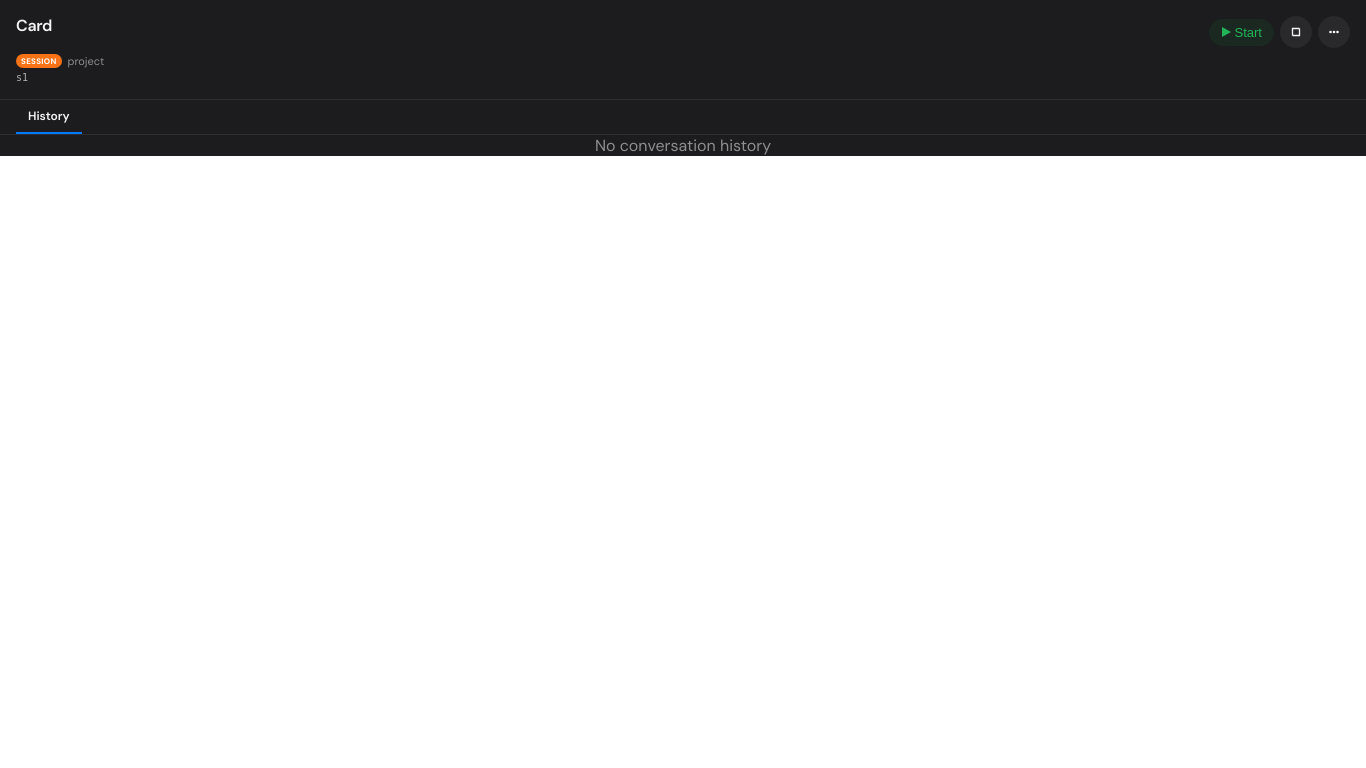
Test case: CardDetailView › Fork confirmation › shows fork dialog from actions menu
This screenshot has width=1366, height=768.
Click the button with test id "actions-menu-trigger": (1334, 32) [1318,16,1350,48]
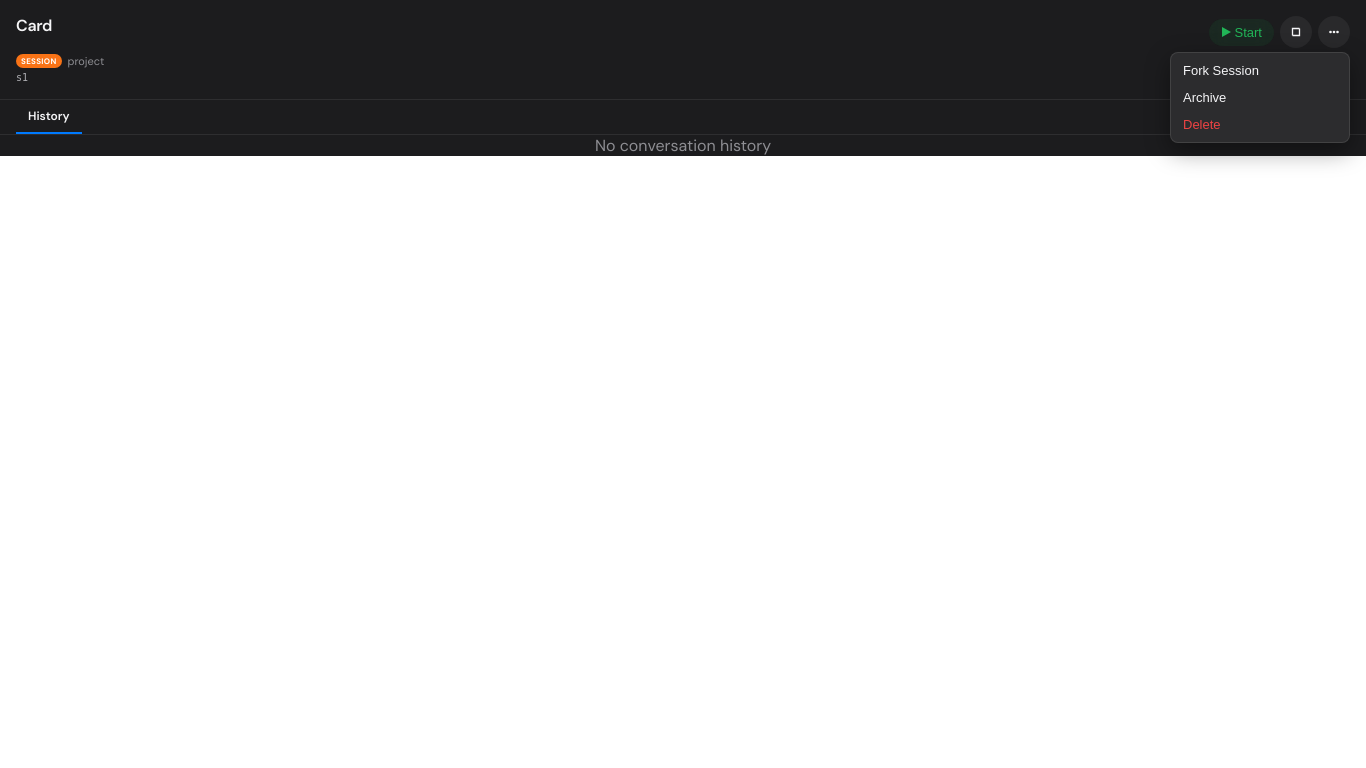
Click the menu item "Fork Session": (1260, 70) [1171,57,1349,84]
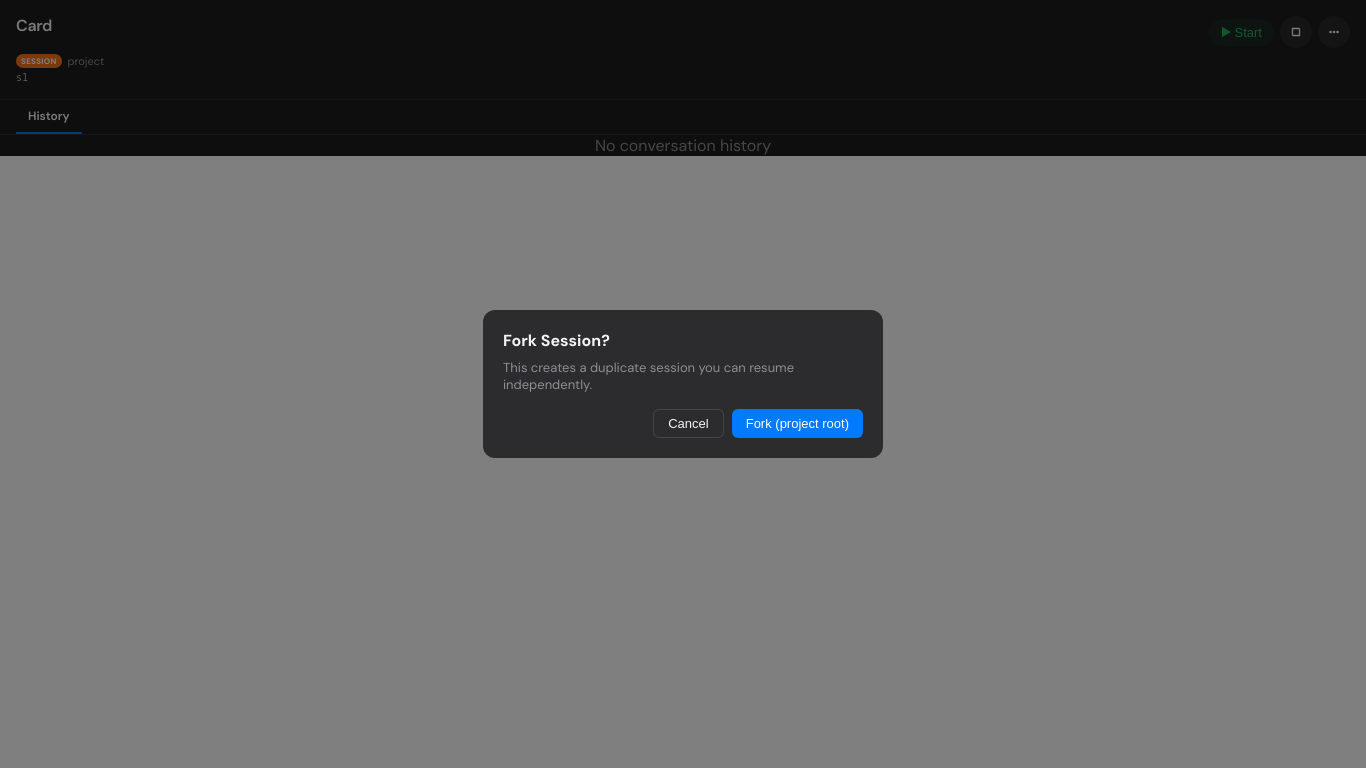
Now the element with test id "confirm-dialog" is shown
